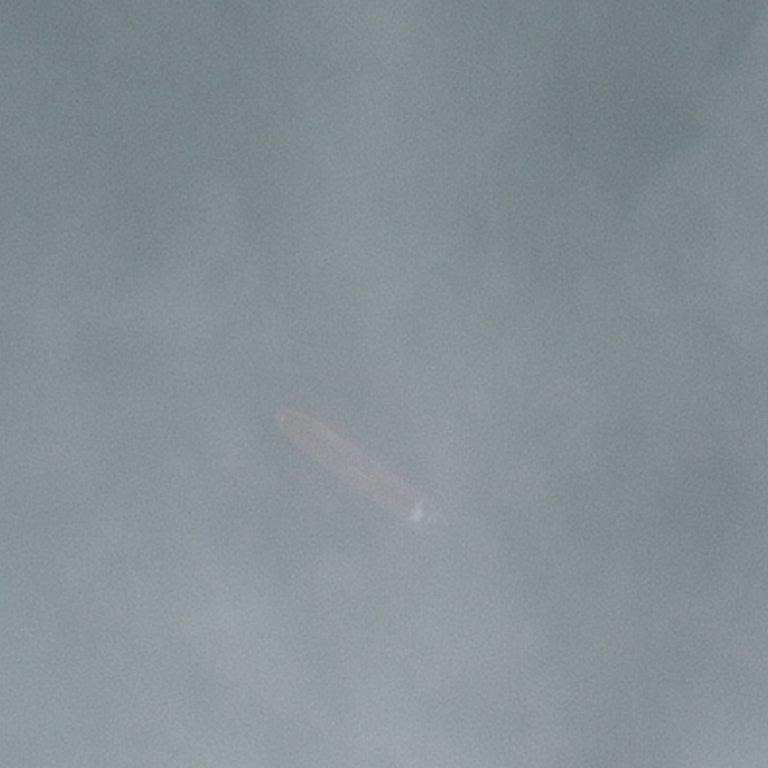ship: (267, 440, 451, 491), (273, 407, 282, 418), (431, 503, 439, 515), (413, 516, 421, 524)
